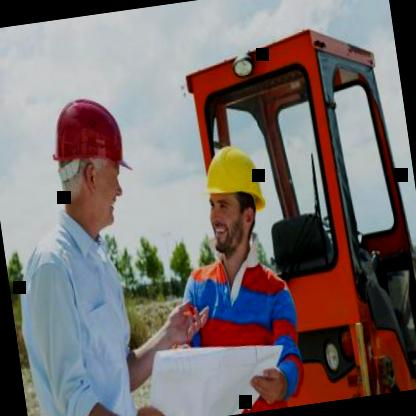helmet: (33, 72, 146, 242), (187, 126, 278, 266)
